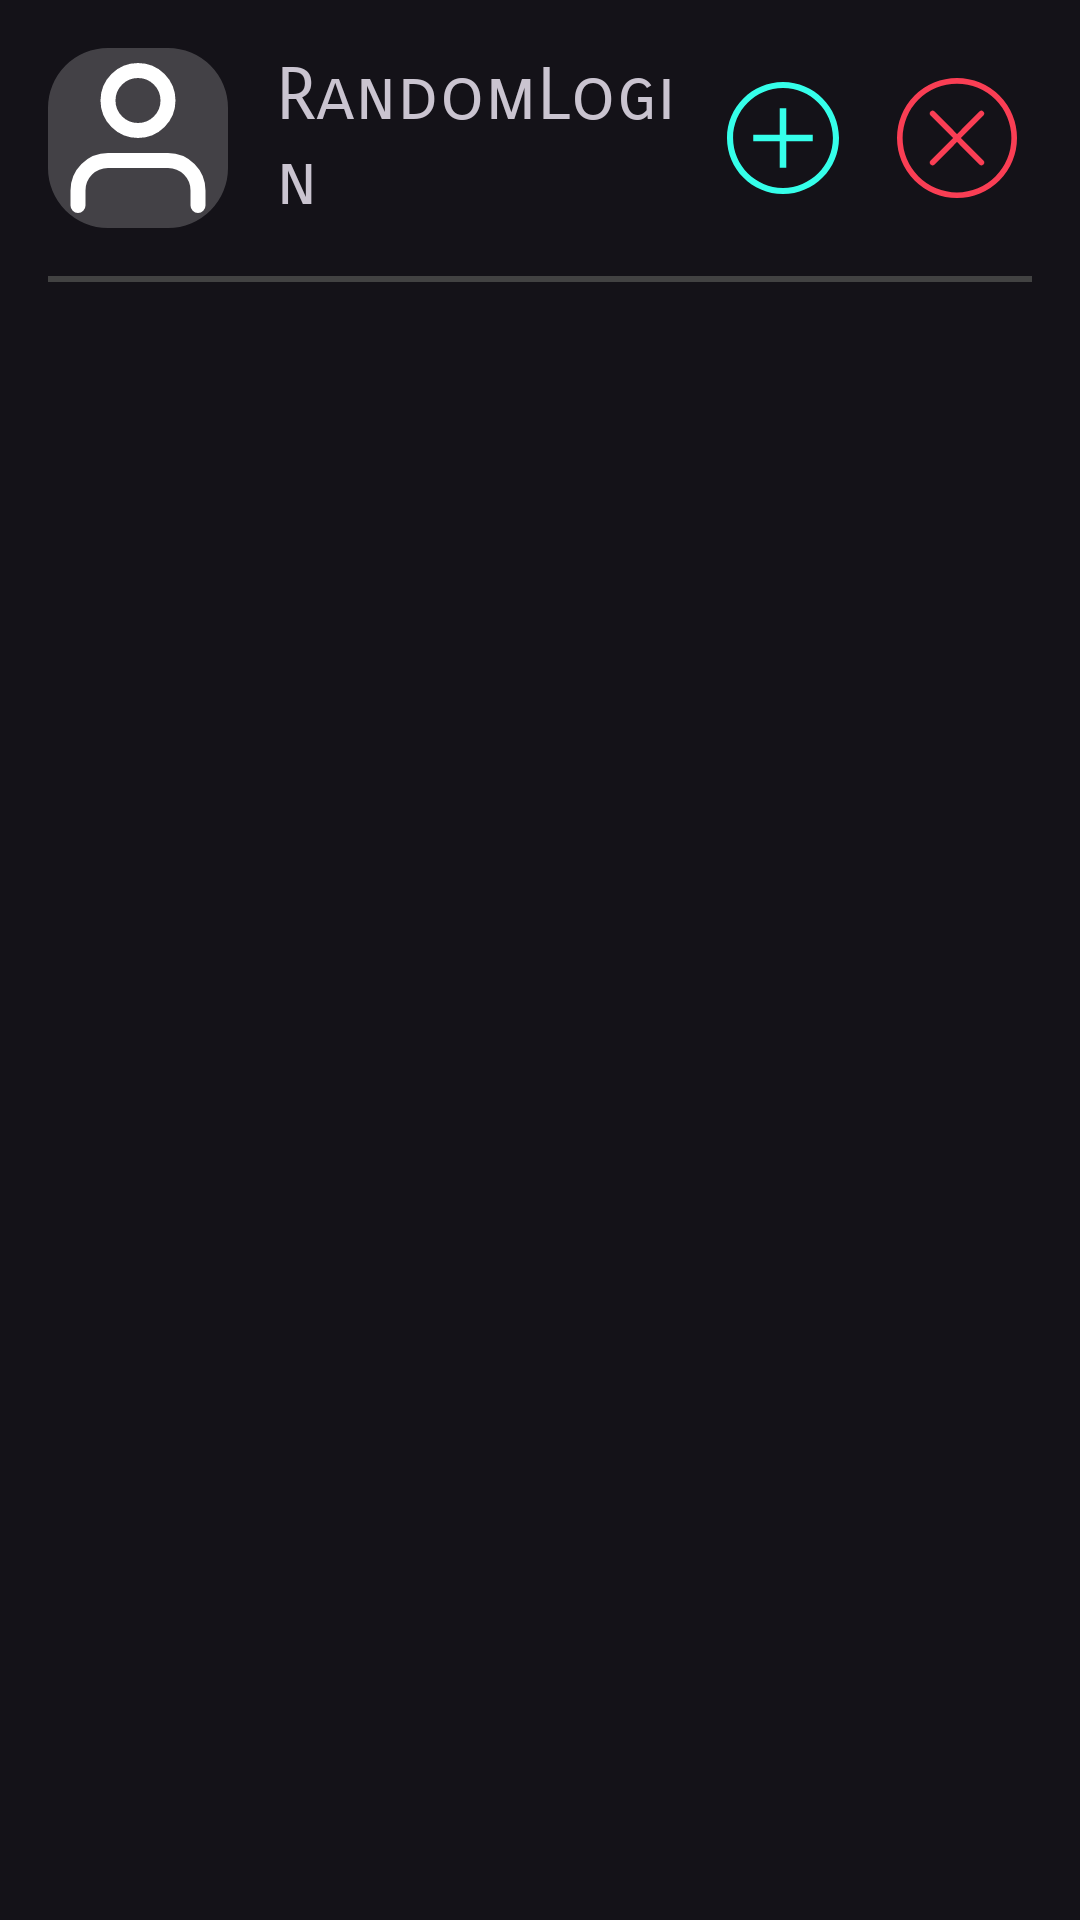

Screen size 1080 x 1920. Icon name, then its center in pixels as point (x, y):
add: point (783, 138)
reject: point (957, 138)
user: point (138, 138)
